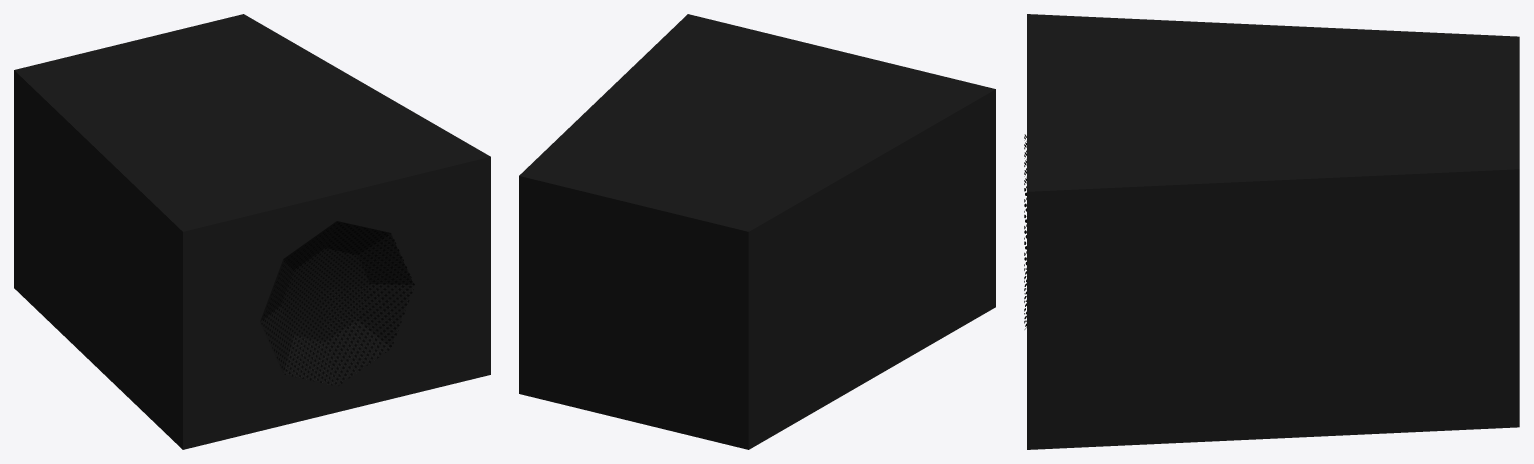
File: Itr_Obj_Speaker3_Top_02.FBX
The picture shows the model from 3 angles, left to right: view 1: azimuth 30°, elevation 25°; view 2: azimuth 150°, elevation 25°; view 3: azimuth 270°, elevation 25°; orthographic projection. The views are drawn at different scales.
Parts seen in each view (by area): view 1: Itr_Obj_Speaker3_Top_02; view 2: Itr_Obj_Speaker3_Top_02; view 3: Itr_Obj_Speaker3_Top_02.
Part boxes in pixels (box(x1,y1,x2,y2)): Itr_Obj_Speaker3_Top_02: box(14, 14, 490, 449); Itr_Obj_Speaker3_Top_02: box(519, 14, 995, 449); Itr_Obj_Speaker3_Top_02: box(1024, 14, 1519, 449).
Bounding box in the file's own units: 9.88 × 6.69 × 11.62.
